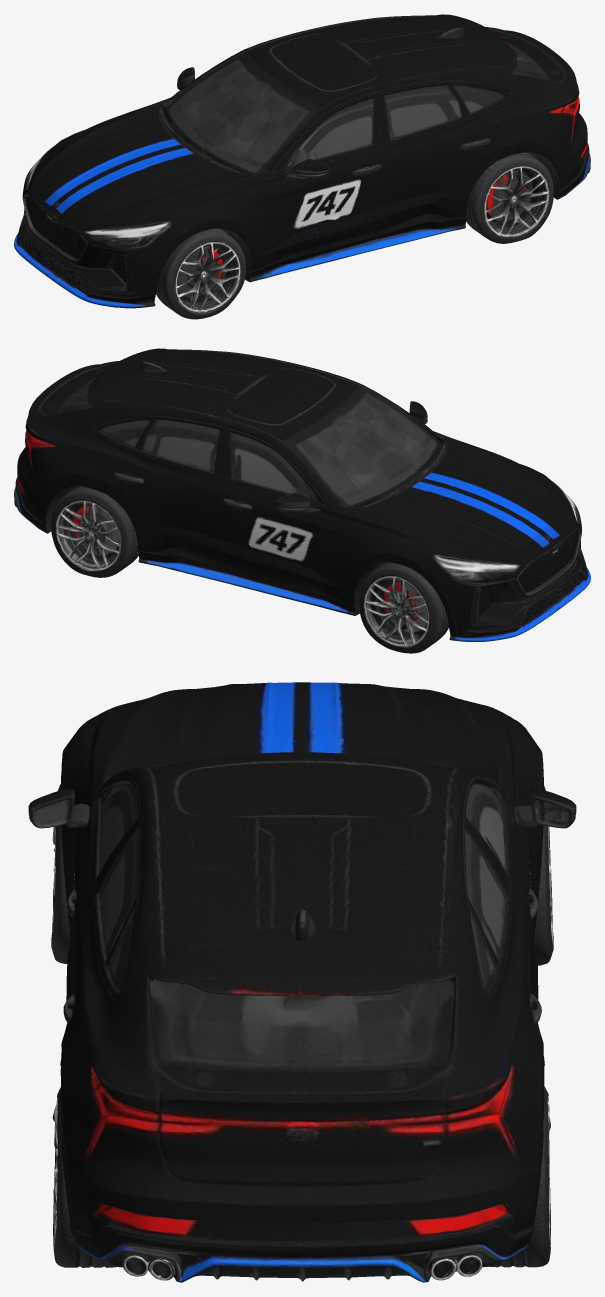
Rendered from Meshy_AI_V_I_P_GT_Model_Reference_20261118_texture_181649tris.glb.
The picture shows the model from 3 angles, top to bottom: view 1: azimuth 30°, elevation 25°; view 2: azimuth 150°, elevation 25°; view 3: azimuth 270°, elevation 25°; orthographic projection. The views are drawn at different scales.
Parts seen in each view (by area): view 1: Mesh_0; view 2: Mesh_0; view 3: Mesh_0.
Part boxes in pixels (x1,y1,x2,y2): Mesh_0: (14,14,590,319); Mesh_0: (14,348,590,653); Mesh_0: (28,682,576,1282).
Bounding box in the file's own units: 190 × 60.06 × 87.38.
1 material, 1 textured.
